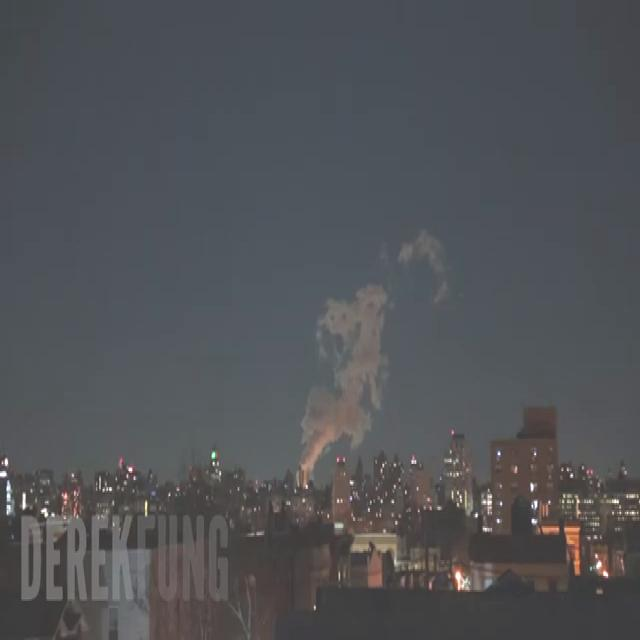smoke: (298, 284, 387, 478)
